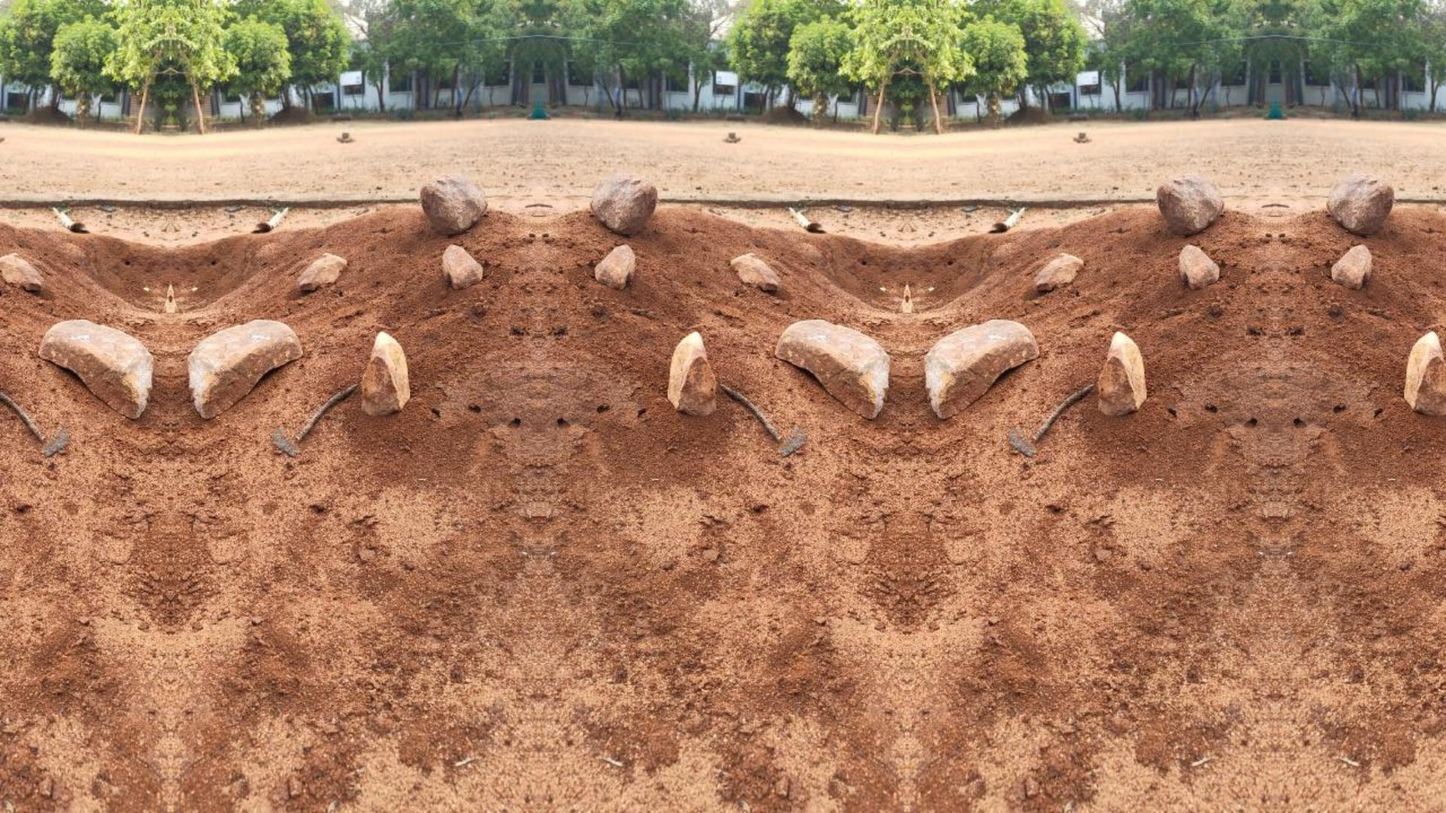rock: (775, 318, 889, 419), (38, 320, 153, 419), (189, 320, 302, 419), (924, 320, 1038, 418), (590, 172, 657, 235), (359, 331, 409, 414), (1097, 331, 1146, 414), (668, 332, 716, 416), (1157, 174, 1223, 235), (1327, 174, 1393, 235), (420, 175, 486, 235), (1404, 331, 1445, 414), (295, 253, 347, 292), (1034, 253, 1083, 294), (730, 253, 781, 292), (1178, 244, 1219, 288), (594, 245, 635, 288), (1331, 244, 1371, 288), (442, 245, 482, 288), (0, 254, 43, 292)
